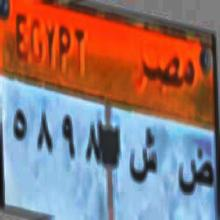5: (10, 108, 28, 148)
8: (34, 107, 54, 164), (84, 117, 101, 172)
9: (61, 108, 78, 170)
daad: (177, 144, 213, 204)
sheen: (129, 123, 159, 192)
